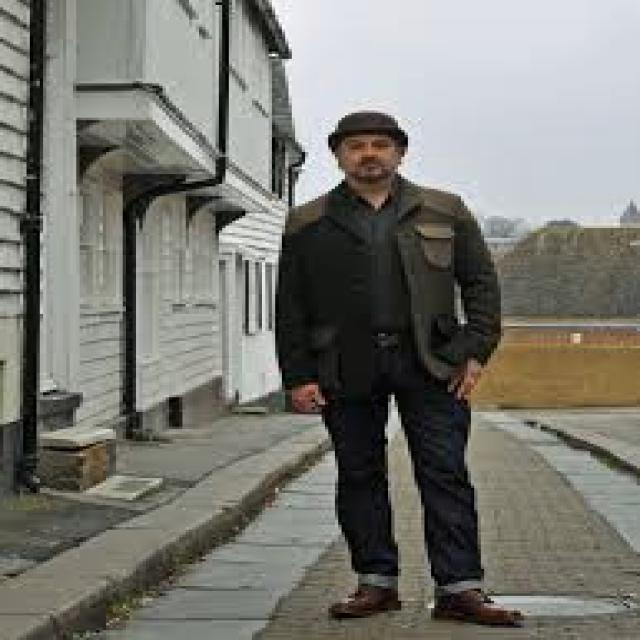adult: (248, 90, 563, 640)
